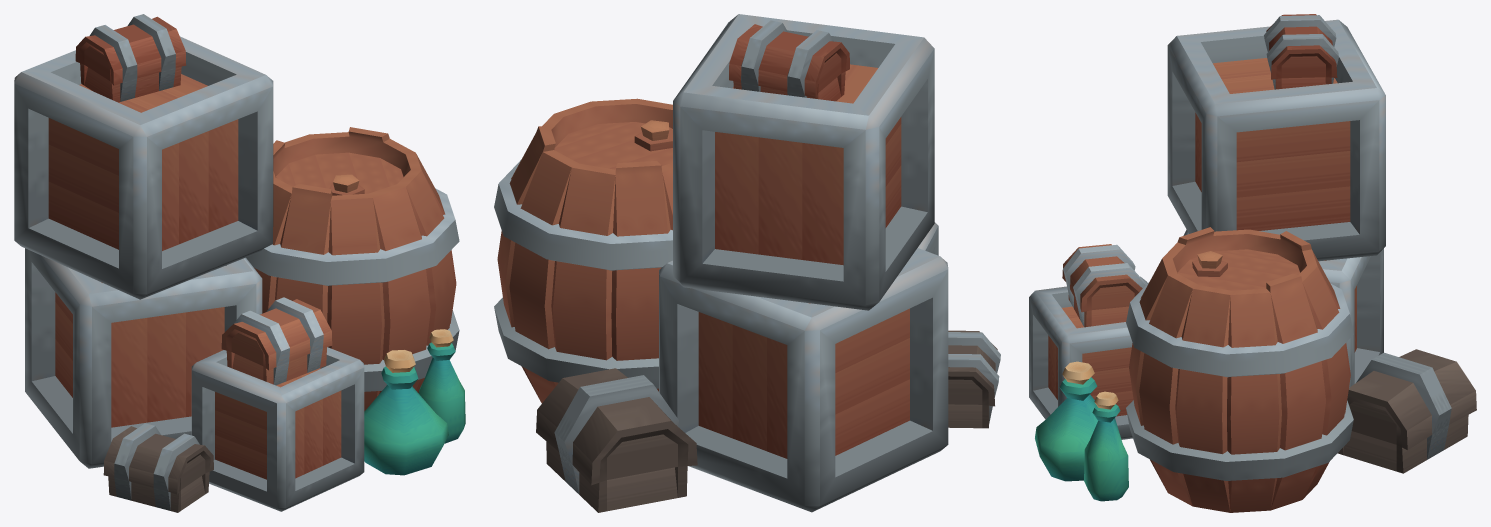
Rendered from box_stacked.glb.
3 renders of one model, left to right at view 1: azimuth 30°, elevation 25°; view 2: azimuth 150°, elevation 25°; view 3: azimuth 270°, elevation 25°, orthographic. The views are drawn at different scales.
Parts seen in each view (by area): view 1: box_stacked; view 2: box_stacked; view 3: box_stacked.
Boxes of the visible parts, box(x1,y1,x2,y2) form: box_stacked: box(14, 14, 465, 512); box_stacked: box(494, 14, 1000, 512); box_stacked: box(1029, 14, 1476, 512).
Bounding box in the file's own units: 3.48 × 3.31 × 3.63.
Materials: 1 (1 with a texture image).
